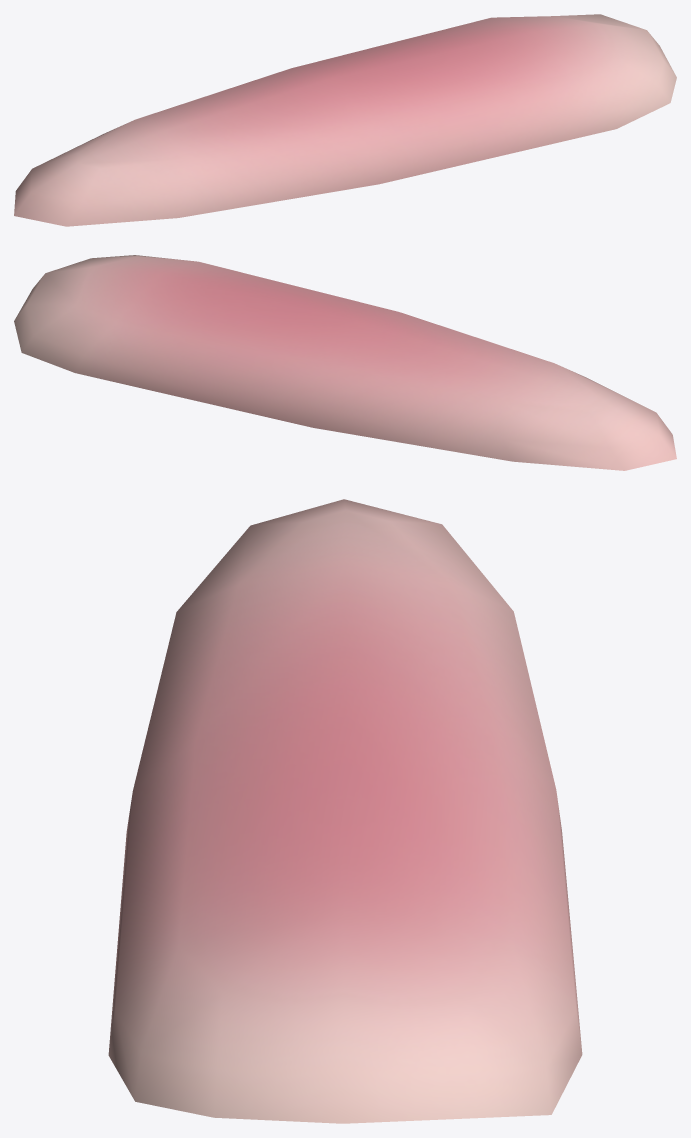
The model's file is Index.fbx.
3 renders of one model, top to bottom at view 1: azimuth 30°, elevation 25°; view 2: azimuth 150°, elevation 25°; view 3: azimuth 270°, elevation 25°, orthographic. The views are drawn at different scales.
Parts seen in each view (by area): view 1: Index; view 2: Index; view 3: Index.
Boxes of the visible parts, x1,y1,x2,y2 form: Index: [14, 14, 676, 226]; Index: [14, 255, 676, 470]; Index: [108, 499, 582, 1123].
Bounding box in the file's own units: 0.0191 × 0.0018 × 0.00607.
